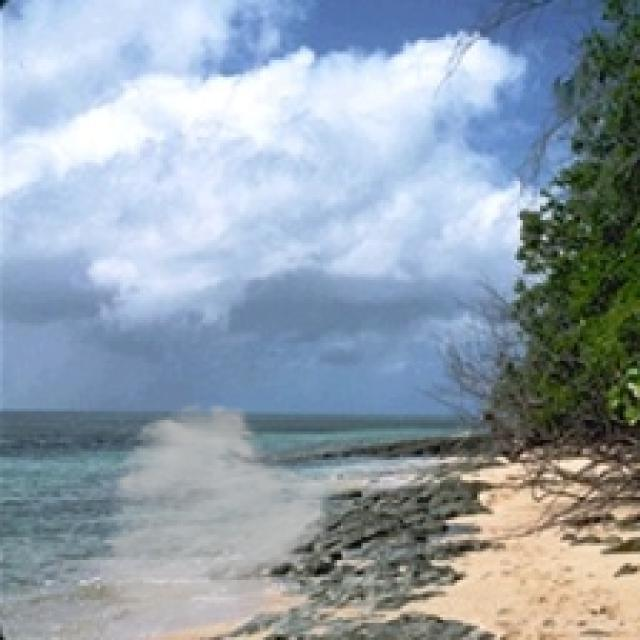smoke: (91, 400, 343, 631)
